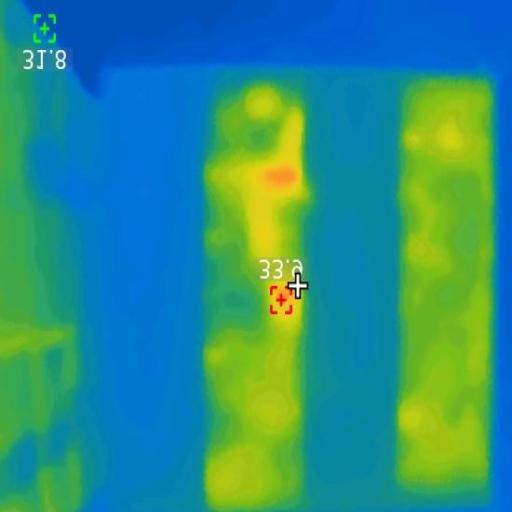hotspot: (269, 282, 295, 314), (265, 166, 297, 190)
